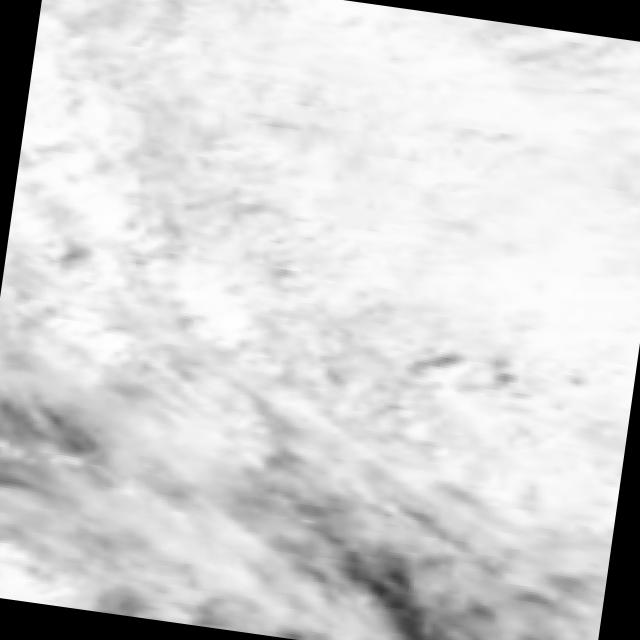CB: (442, 164, 640, 343), (275, 0, 496, 133)
